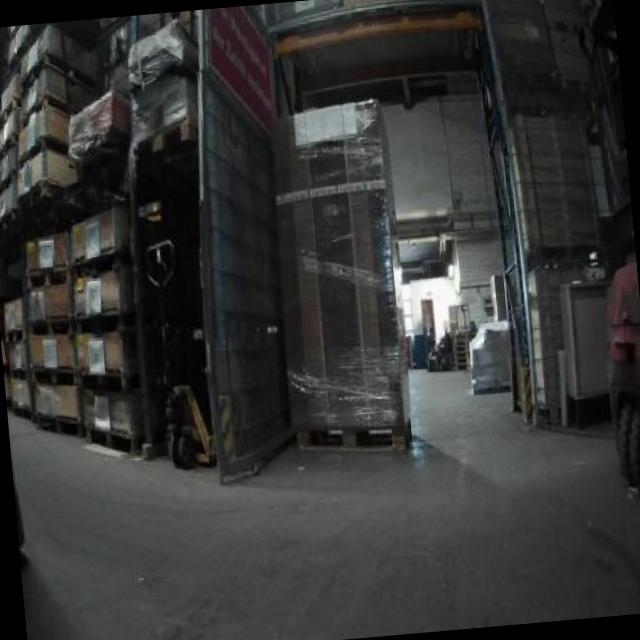pallet: (286, 406, 410, 466)
